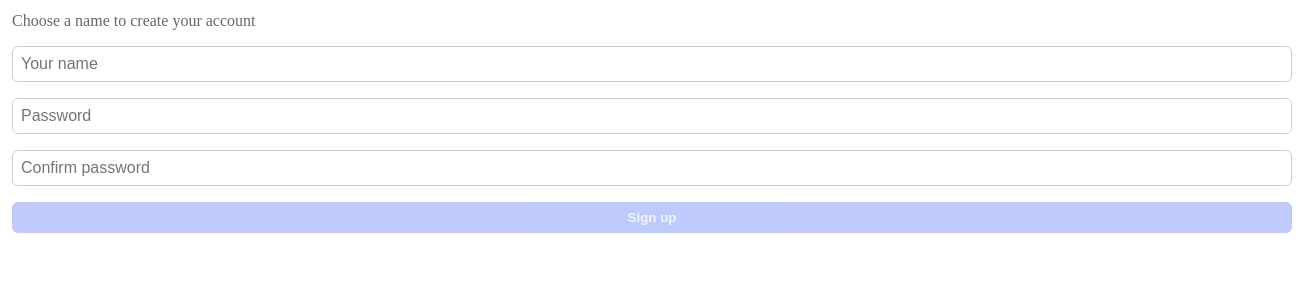
Test: Signing up without an invite shows a user friendly error
Type "Alice" into the field with placeholder "Your name". click: [652, 64]
box: x1=12 y1=46 x2=1292 y2=82
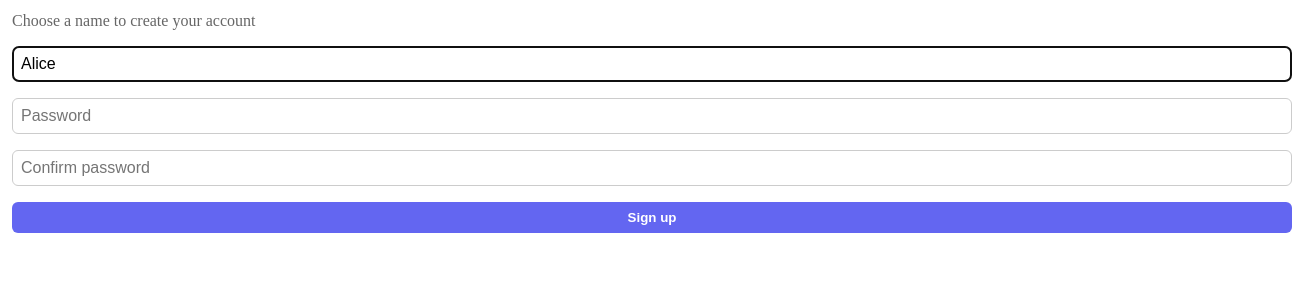
Type "secret" into the password field with placeholder "Password". click: [652, 116]
box: x1=12 y1=98 x2=1292 y2=134
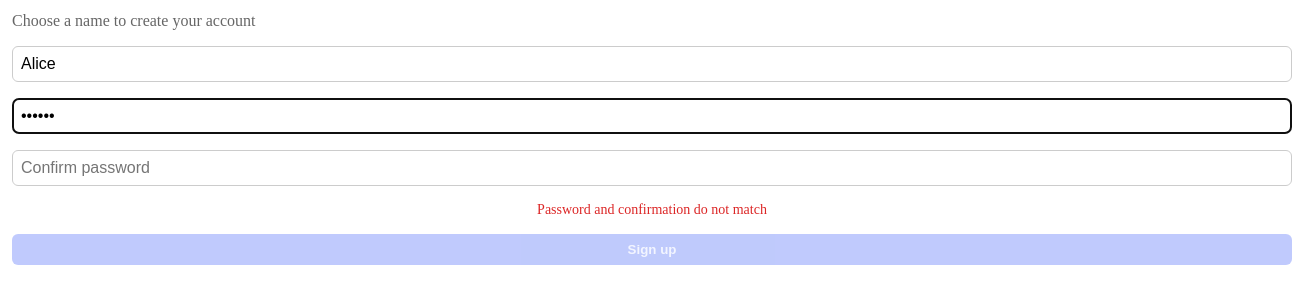
Type "secret" into the password field with placeholder "Confirm password". click: [652, 168]
box: x1=12 y1=150 x2=1292 y2=186
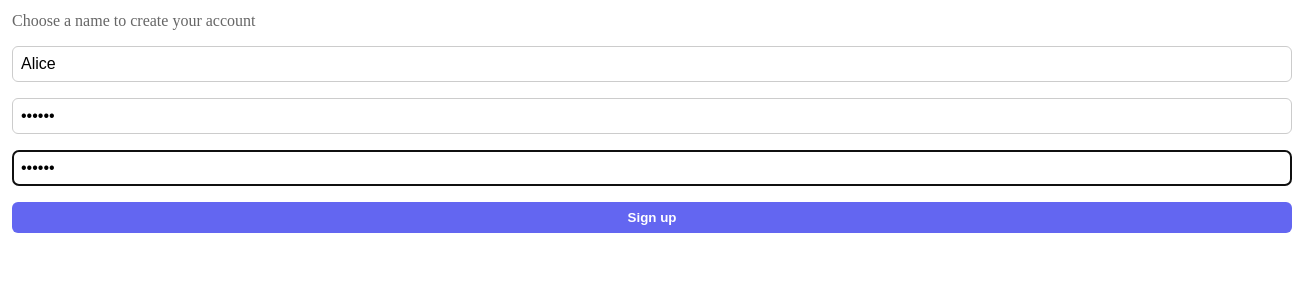
Click the button "Sign up". click: [652, 218]
box: x1=12 y1=202 x2=1292 y2=233
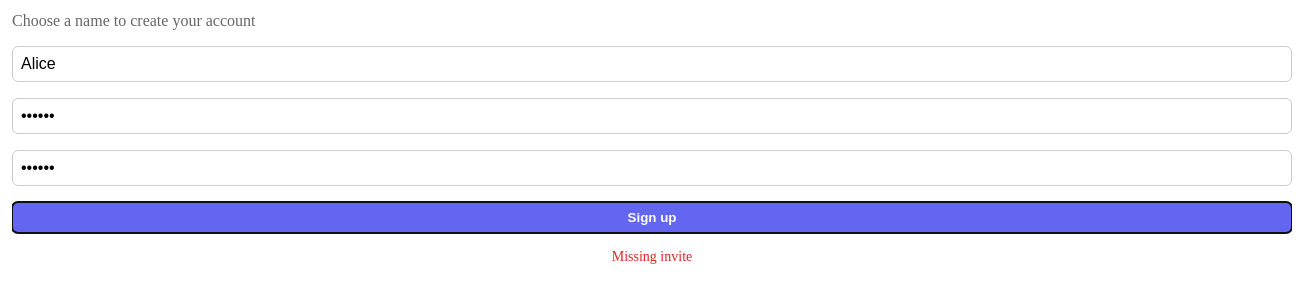
Check: the text "Missing invite" is shown, box x1=612 y1=249 x2=692 y2=264
